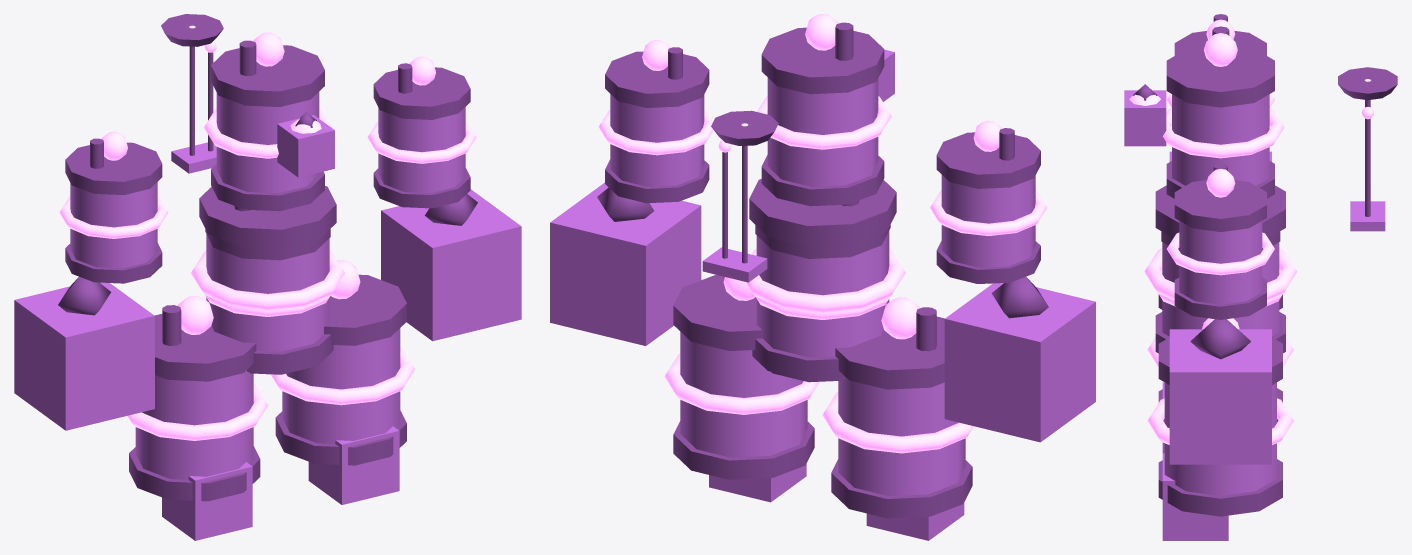
File: golem_126.glb
3 views of the same model, side by side, from view 1: azimuth 30°, elevation 25°; view 2: azimuth 150°, elevation 25°; view 3: azimuth 270°, elevation 25° (orthographic). The views are drawn at different scales.
Visible parts, largest first — view 1: Body, Detail, Glow; view 2: Body, Detail, Glow; view 3: Body, Detail, Glow.
Boxes of the visible parts, box(x1,y1,x2,y2) form: Body: box(14, 92, 521, 540); Detail: box(58, 14, 477, 501); Glow: box(59, 25, 476, 440); Body: box(550, 49, 1095, 540); Detail: box(597, 22, 1048, 518); Glow: box(598, 14, 1047, 453); Body: box(1124, 90, 1385, 540); Detail: box(1133, 14, 1397, 516); Glow: box(1129, 19, 1373, 444).
Bounding box in the file's own units: 1.32 × 1.27 × 0.6902.
